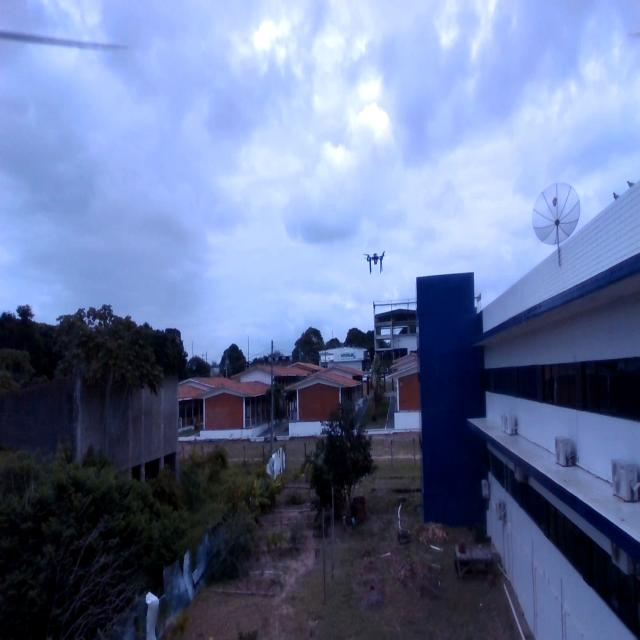-uav-: (358, 238, 390, 278)
